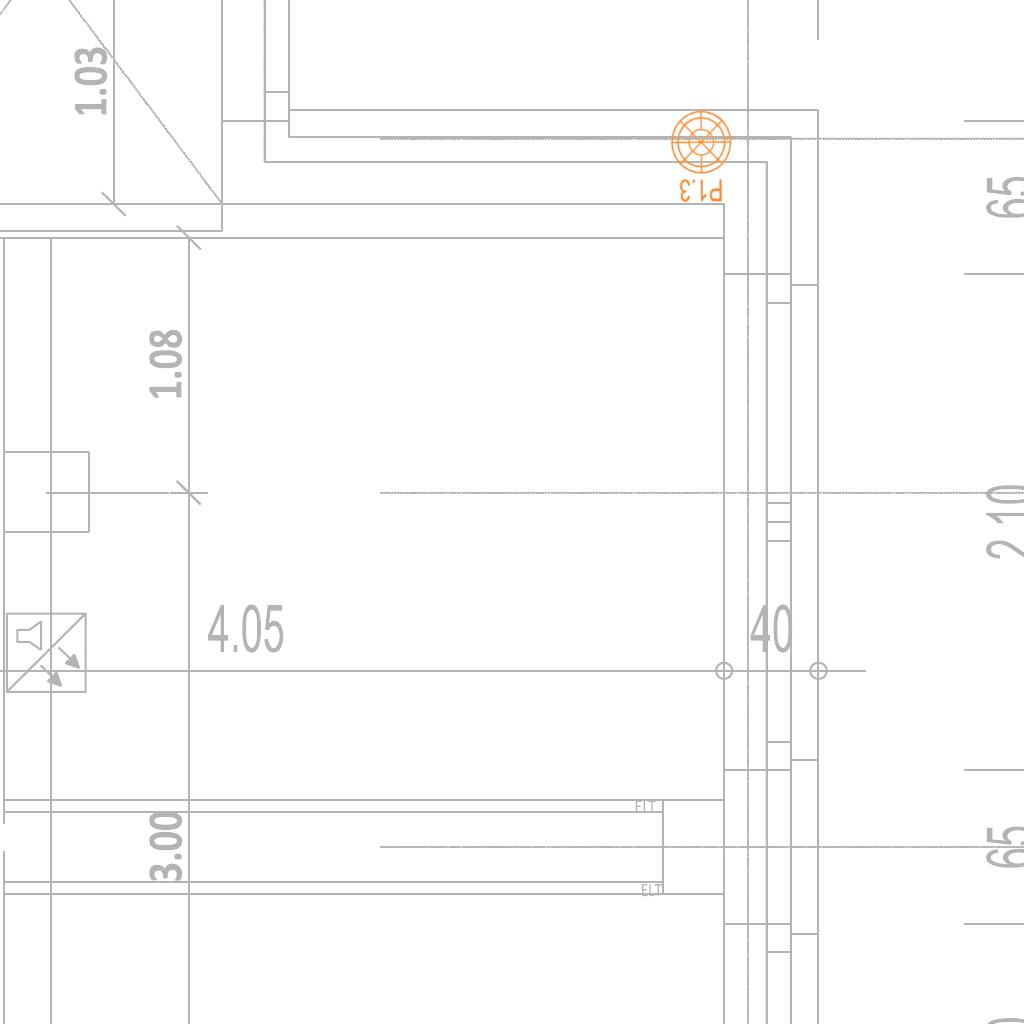Aufbaurundleuchte_LED_Treppenhaus: (664, 109, 733, 211)
